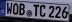character: (12, 2, 19, 15), (18, 3, 25, 16), (39, 4, 46, 17), (48, 5, 55, 18), (6, 2, 13, 14), (61, 6, 68, 18), (33, 3, 39, 16), (55, 5, 61, 18)
